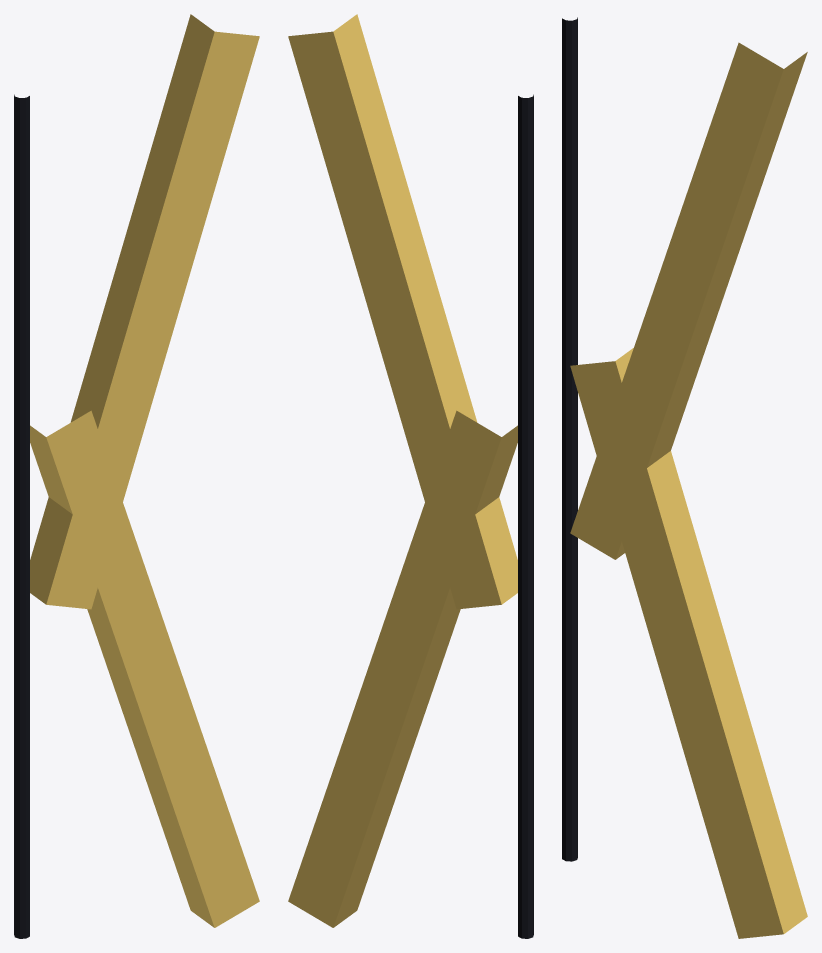
The model's file is windranger.glb.
The picture shows the model from 3 angles, left to right: view 1: azimuth 30°, elevation 25°; view 2: azimuth 150°, elevation 25°; view 3: azimuth 330°, elevation 25°; orthographic projection.
Visible parts, largest first — view 1: windranger-upper-bow, windranger-lower-bow, windranger-string; view 2: windranger-upper-bow, windranger-lower-bow, windranger-string; view 3: windranger-lower-bow, windranger-upper-bow, windranger-string.
Boxes of the visible parts, left/top/right/bottom form: windranger-upper-bow: left=30, top=14, right=259, bottom=609; windranger-lower-bow: left=30, top=410, right=259, bottom=927; windranger-string: left=14, top=94, right=29, bottom=938; windranger-upper-bow: left=288, top=14, right=517, bottom=609; windranger-lower-bow: left=288, top=410, right=517, bottom=927; windranger-string: left=518, top=94, right=533, bottom=938; windranger-lower-bow: left=570, top=348, right=807, bottom=938; windranger-upper-bow: left=570, top=42, right=807, bottom=559; windranger-string: left=562, top=17, right=577, bottom=861.
Bounding box in the file's own units: 0.3915 × 1.44 × 0.07.
